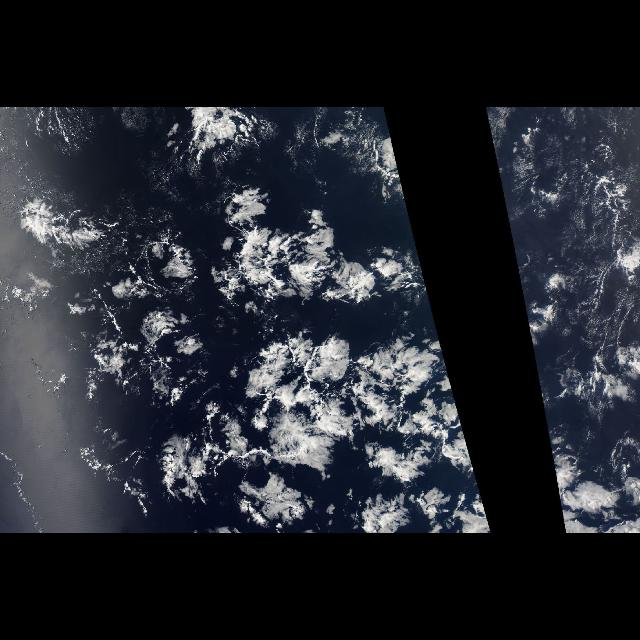Flower: (11, 130, 491, 532), (544, 409, 632, 529)
Gravel: (548, 151, 640, 413)
Sugar: (506, 125, 632, 268)
